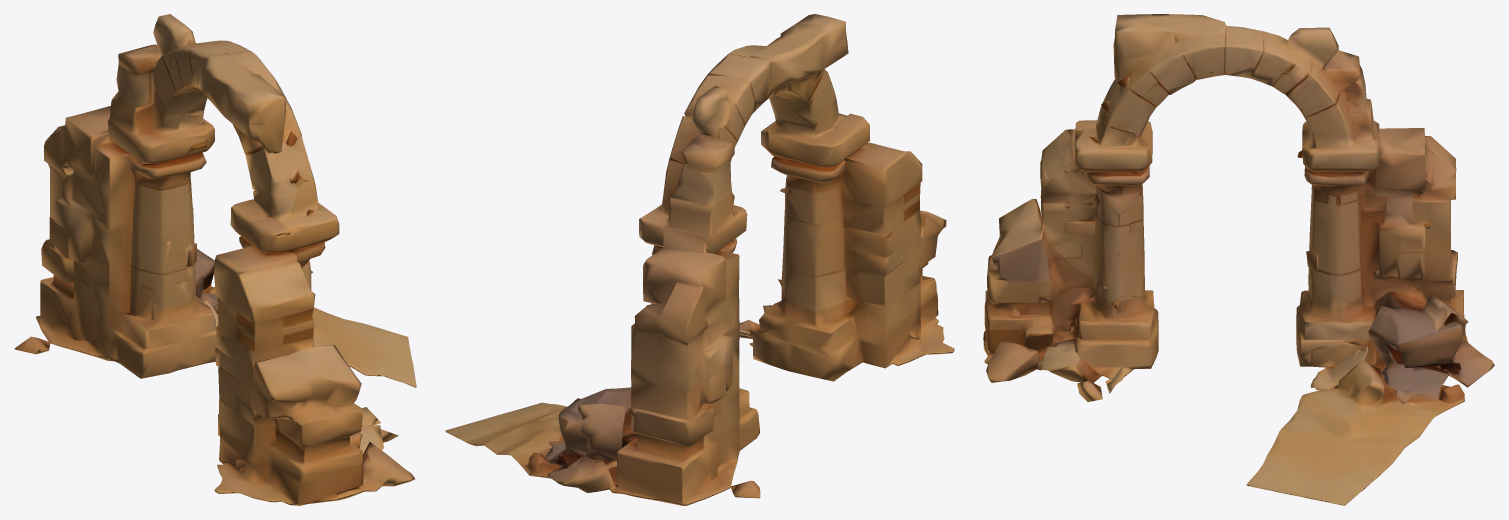
File: ruins.glb
3 renders of one model, left to right at view 1: azimuth 30°, elevation 25°; view 2: azimuth 150°, elevation 25°; view 3: azimuth 270°, elevation 25°, orthographic. The views are drawn at different scales.
Visible parts, largest first — view 1: ruins-0; view 2: ruins-0; view 3: ruins-0.
Part boxes in pixels (bbox=[...]): ruins-0: bbox=[14, 14, 416, 505]; ruins-0: bbox=[445, 14, 954, 505]; ruins-0: bbox=[983, 14, 1494, 505].
Size of the model in its own units: 0.7441 by 0.7895 by 1.
1 material, 1 textured.
